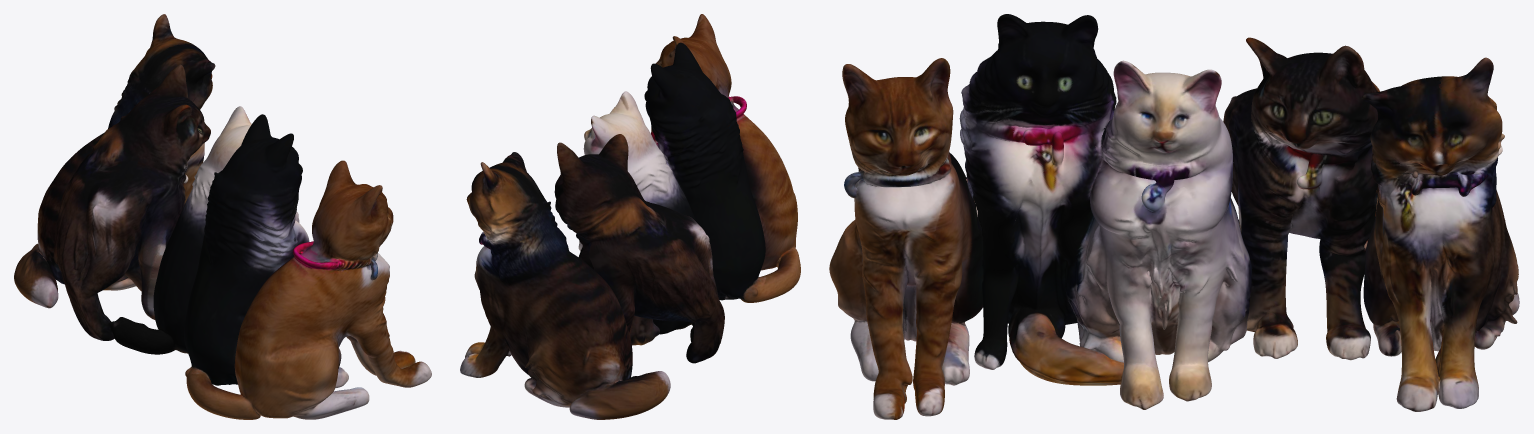
Rendered from Familia.fbx.
The picture shows the model from 3 angles, left to right: view 1: azimuth 30°, elevation 25°; view 2: azimuth 150°, elevation 25°; view 3: azimuth 270°, elevation 25°; orthographic projection. The views are drawn at different scales.
Parts seen in each view (by area): view 1: tripo_node_2cee608c; view 2: tripo_node_2cee608c; view 3: tripo_node_2cee608c.
Part boxes in pixels (x1,y1,x2,y2): tripo_node_2cee608c: (14, 14, 431, 419); tripo_node_2cee608c: (460, 14, 800, 419); tripo_node_2cee608c: (829, 14, 1519, 419).
Size of the model in its own units: 56.27 by 56.11 by 100.
Materials: 1 (1 with a texture image).
